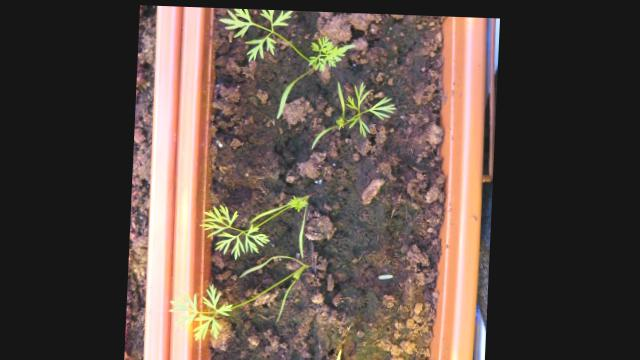crop: (310, 72, 401, 153)
